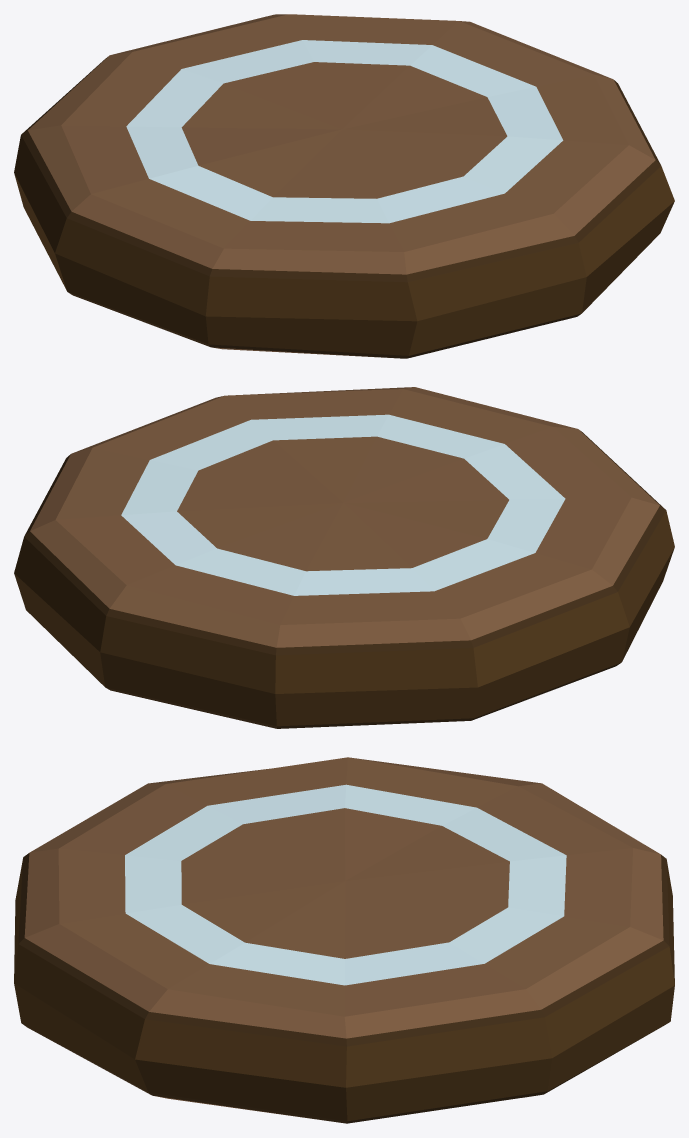
Rendered from SM_Prop_Pillow_12.fbx.
The picture shows the model from 3 angles, top to bottom: view 1: azimuth 30°, elevation 25°; view 2: azimuth 150°, elevation 25°; view 3: azimuth 270°, elevation 25°; orthographic projection. The views are drawn at different scales.
Visible parts, largest first — view 1: SM_Prop_Pillow_12; view 2: SM_Prop_Pillow_12; view 3: SM_Prop_Pillow_12.
Boxes of the visible parts, x1,y1,x2,y2 form: SM_Prop_Pillow_12: [14, 14, 674, 358]; SM_Prop_Pillow_12: [14, 387, 674, 728]; SM_Prop_Pillow_12: [14, 757, 674, 1123].
Bounding box in the file's own units: 0.6863 × 0.1302 × 0.6537.
Materials: 1 (1 with a texture image).
